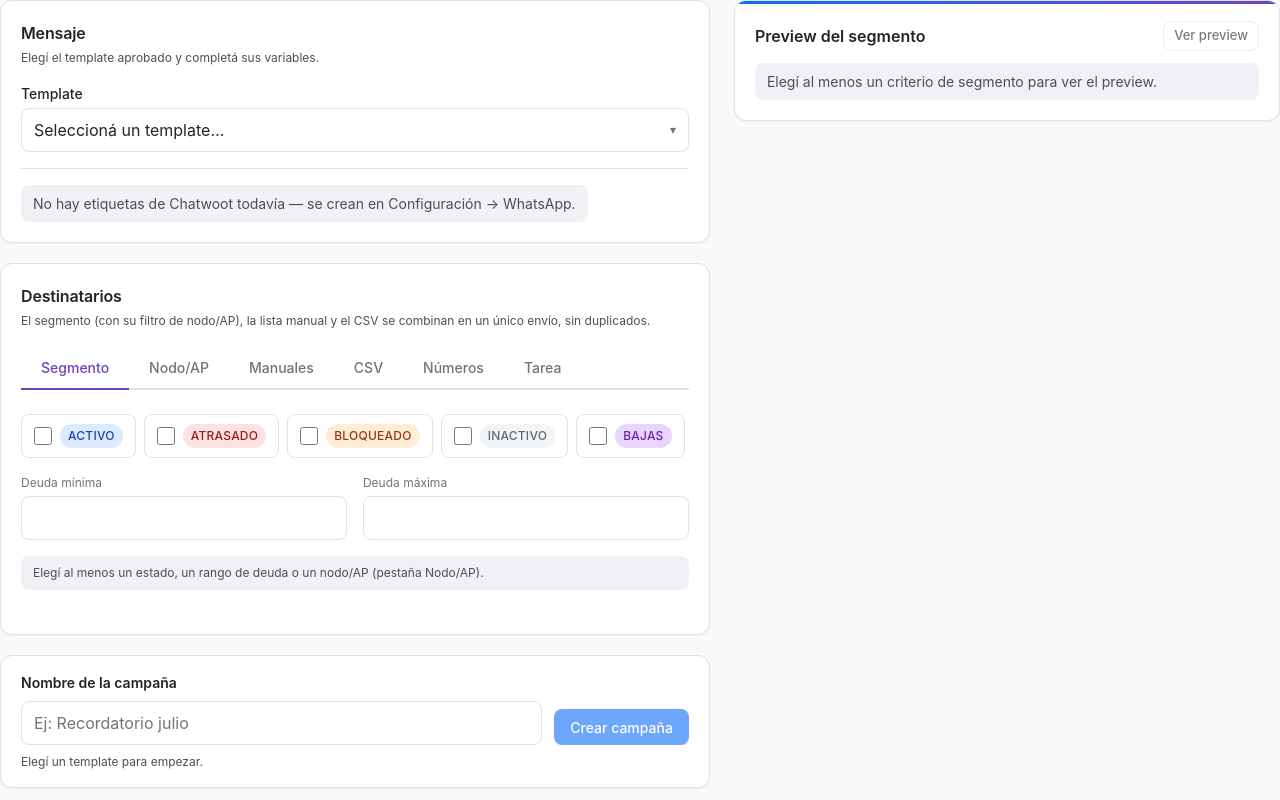
it: TAB-1: la card Destinatarios consolida los orígenes en tabs › los selects de Nodo/AP viven en el tab nuevo y NO en el panel Segmento
Expected: the tab "Segmento" is shown, [21, 346, 129, 390]
Expected: the dropdown labelled "access point" is not shown
Step 1. Click the tab "Nodo/AP" → x=179, y=368, box [129, 346, 229, 390]
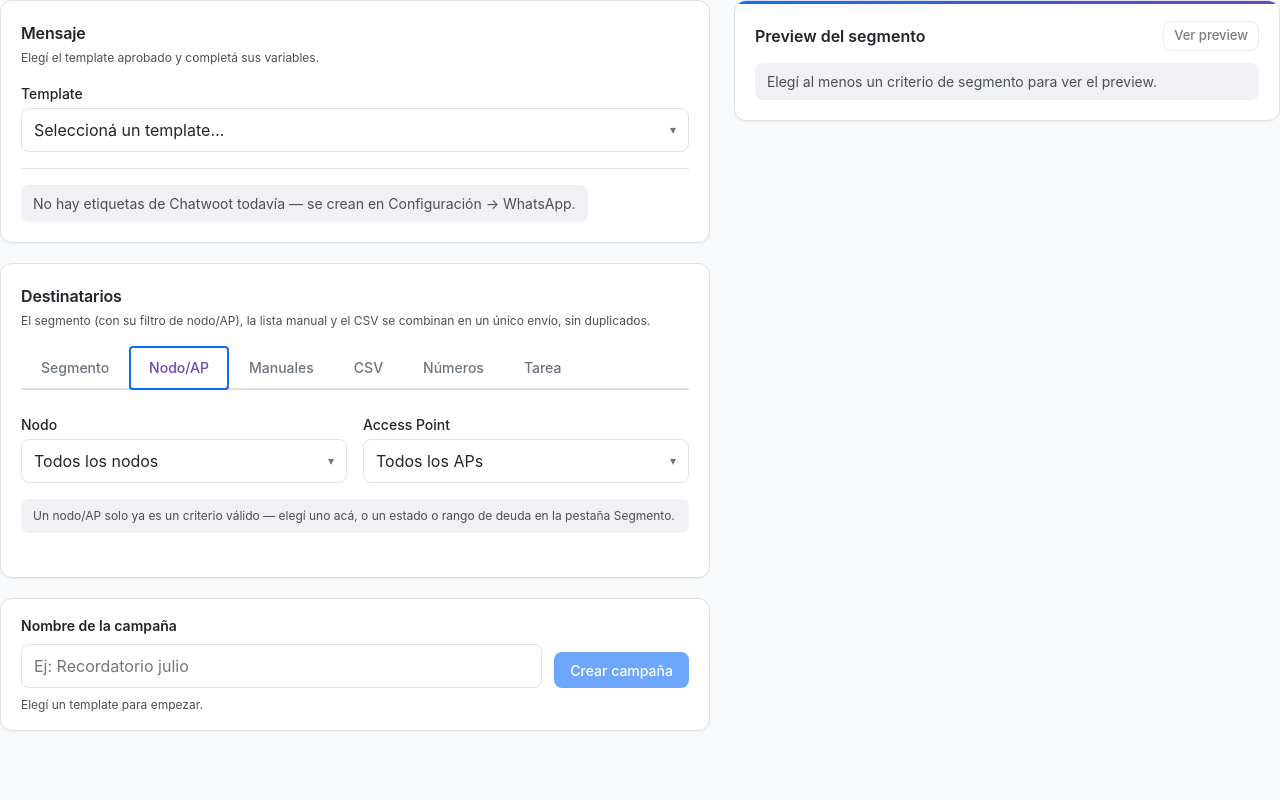
Expected: the dropdown labelled "Todos los nodos ▾" is shown, [21, 439, 347, 483]
Expected: the dropdown named "access point" is shown, [363, 439, 689, 483]
Expected: the text "Atrasado" is gone
